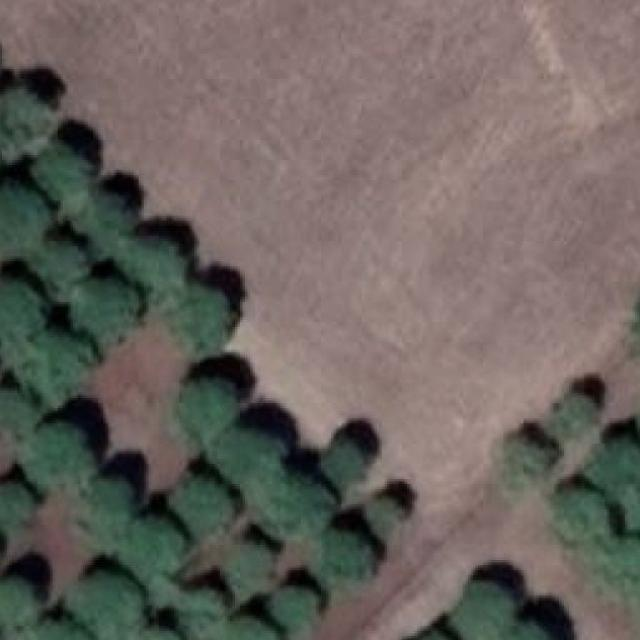Tree: (112, 518, 190, 596), (166, 274, 237, 346), (70, 469, 141, 538), (255, 467, 328, 534), (23, 418, 90, 489), (24, 332, 93, 399), (166, 472, 235, 539), (68, 276, 130, 346), (174, 575, 240, 640), (73, 575, 149, 631), (222, 423, 288, 487), (28, 236, 90, 303), (120, 226, 186, 288), (71, 183, 131, 251), (551, 479, 615, 541), (182, 376, 243, 440), (317, 524, 377, 588), (0, 193, 48, 270), (212, 533, 278, 588), (0, 87, 48, 161), (0, 266, 45, 342), (458, 575, 513, 633), (0, 469, 43, 543), (32, 138, 85, 197), (548, 391, 604, 446), (322, 428, 374, 487), (594, 428, 640, 493), (270, 578, 324, 629), (0, 575, 43, 636), (503, 428, 554, 478), (0, 382, 41, 443), (607, 524, 640, 594), (222, 607, 283, 640), (365, 491, 407, 538), (27, 612, 91, 640), (500, 612, 556, 640), (131, 626, 179, 640)
